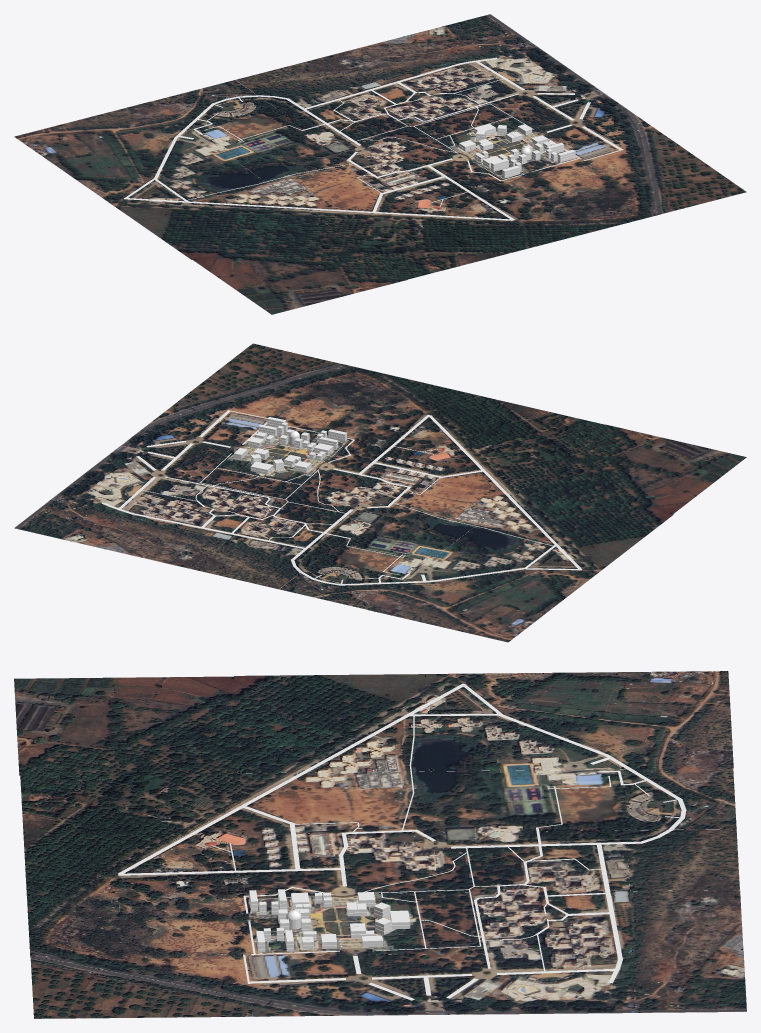
3 views of the same model, one above another, from view 1: azimuth 30°, elevation 25°; view 2: azimuth 150°, elevation 25°; view 3: azimuth 270°, elevation 25° (orthographic). The views are drawn at different scales.
Visible parts, largest first — view 1: Cube.023, Cube.021, Cube.016, Cube.007, Cube.008, Cube.022, Cube.009, Cube.012, Cube.015, Cube.005, Cube.004, Cube.011 (+9 smaller); view 2: Cube.023, Cube.021, Cube.016, Cube.008, Cube.022, Cube.009, Cube.007, Cube.012, Cube.015, Cube.005, Cube.004, Cube.006 (+9 smaller); view 3: Cube.023, Cube.021, Cube.016, Cube.007, Cube.022, Cube.008, Cube.009, Cube.012, Cube.005, Cube.015, Cube.006, Cube.004 (+11 smaller).
Part boxes in pixels (x1,y1,x2,y2): Cube.023: [193, 225, 407, 314]; Cube.021: [123, 177, 327, 259]; Cube.016: [54, 129, 258, 211]; Cube.007: [499, 159, 661, 235]; Cube.008: [583, 138, 746, 213]; Cube.022: [328, 203, 491, 279]; Cube.009: [413, 181, 576, 257]; Cube.012: [190, 107, 343, 177]; Cube.015: [259, 155, 412, 224]; Cube.005: [446, 42, 599, 111]; Cube.004: [361, 64, 513, 133]; Cube.011: [275, 85, 428, 155]; Cube.023: [532, 424, 746, 513]; Cube.021: [469, 482, 673, 563]; Cube.016: [404, 531, 609, 613]; Cube.008: [180, 343, 340, 419]; Cube.022: [444, 404, 605, 481]; Cube.009: [356, 384, 517, 461]; Cube.007: [272, 364, 429, 440]; Cube.012: [316, 511, 468, 581]; Cube.015: [380, 461, 531, 531]; Cube.005: [51, 449, 203, 519]; Cube.004: [140, 470, 292, 539]; Cube.006: [116, 400, 267, 469]; Cube.023: [14, 676, 239, 775]; Cube.021: [234, 674, 431, 773]; Cube.016: [426, 672, 622, 771]; Cube.007: [27, 895, 249, 957]; Cube.022: [20, 773, 242, 836]; Cube.008: [30, 956, 251, 1018]; Cube.009: [23, 834, 245, 896]; Cube.012: [430, 769, 626, 832]; Cube.005: [440, 952, 635, 1014]; Cube.015: [240, 771, 434, 833]; Cube.006: [248, 954, 442, 1016]; Cube.004: [436, 891, 631, 953].
Bounding box in the file's own units: 23.44 × 0.4924 × 20.88.
212 materials, 20 textured.
